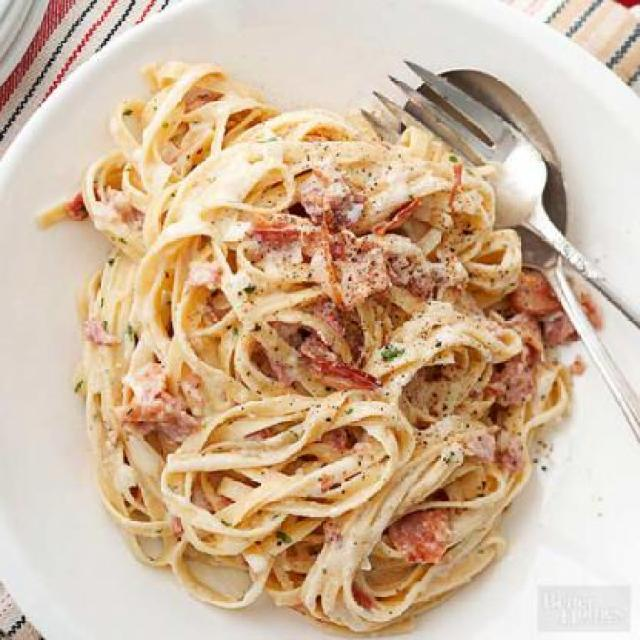Pasta with carbonara sauce: (53, 30, 604, 628)
